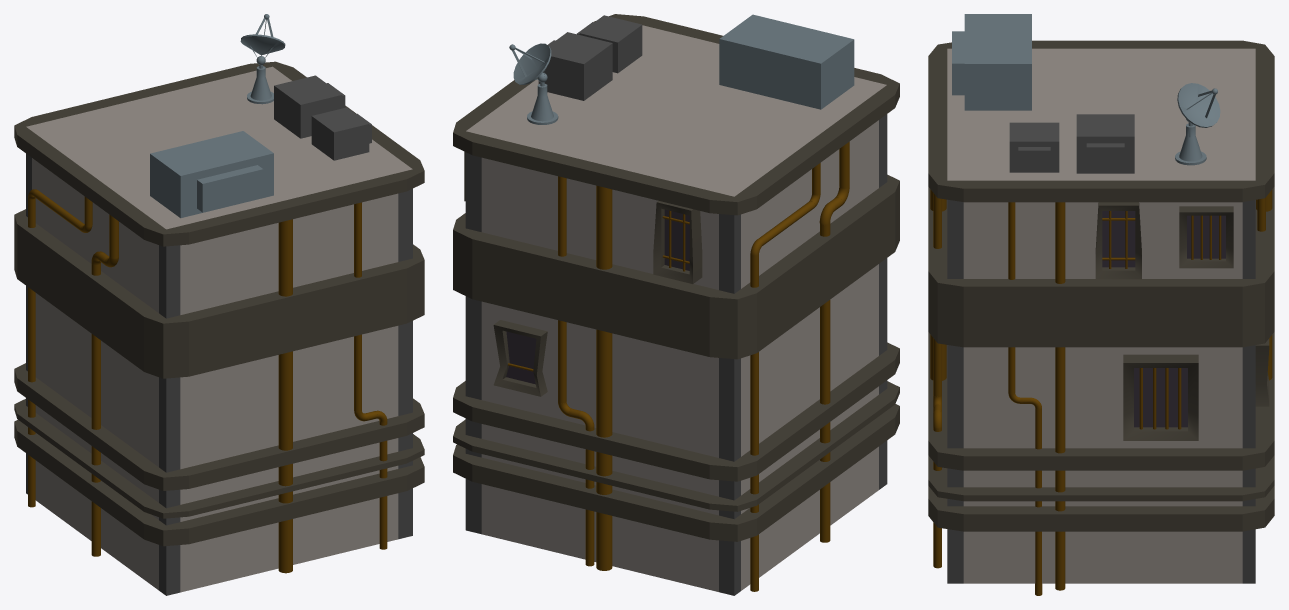
Rendered from 48_building3 (1).fbx.
3 views of the same model, side by side, from view 1: azimuth 30°, elevation 25°; view 2: azimuth 150°, elevation 25°; view 3: azimuth 270°, elevation 25° (orthographic). The views are drawn at different scales.
Visible parts, largest first — view 1: polySurface4, pCube6, pCylinder99, pCube7, pCube8, pCylinder67, pCylinder73, pCylinder98, pCylinder75; view 2: polySurface4, pCube6, pCylinder64, pCube7, pCube24, pCube28, pCylinder67, pCylinder73, pCylinder65, pCylinder75, pCube8; view 3: polySurface4, pCube6, pCube25, pCube7, pCube26, pCube27, pCylinder66, pCube8, pCylinder75, pCylinder74, pCylinder98, pCube28 (+1 smaller).
Part boxes in pixels (x1,y1,x2,y2): polySurface4: [14, 61, 424, 595]; pCube6: [150, 131, 273, 218]; pCylinder99: [278, 219, 292, 573]; pCube7: [274, 75, 345, 138]; pCube8: [311, 107, 371, 160]; pCylinder67: [91, 214, 118, 556]; pCylinder73: [28, 189, 92, 507]; pCylinder98: [354, 202, 387, 549]; pCylinder75: [240, 14, 285, 104]; polySurface4: [453, 14, 899, 595]; pCube6: [719, 14, 854, 109]; pCylinder64: [596, 185, 612, 570]; pCube7: [538, 32, 612, 100]; pCube24: [653, 201, 702, 283]; pCube28: [493, 320, 547, 396]; pCylinder67: [819, 141, 849, 542]; pCylinder73: [750, 163, 820, 591]; pCylinder65: [558, 176, 594, 566]; pCylinder75: [509, 43, 558, 124]; pCube8: [577, 15, 642, 73]; polySurface4: [928, 40, 1274, 583]; pCube6: [952, 14, 1031, 110]; pCube25: [1123, 354, 1198, 440]; pCube7: [1076, 114, 1134, 173]; pCube26: [1095, 202, 1141, 279]; pCube27: [1179, 206, 1233, 268]; pCylinder66: [1055, 202, 1065, 590]; pCube8: [1009, 122, 1059, 172]; pCylinder75: [1175, 83, 1220, 165]; pCylinder74: [1008, 202, 1042, 595]; pCylinder98: [933, 193, 941, 568]; pCube28: [1255, 338, 1269, 406].
Bounding box in the file's own units: 5.21 × 8.07 × 5.14.
